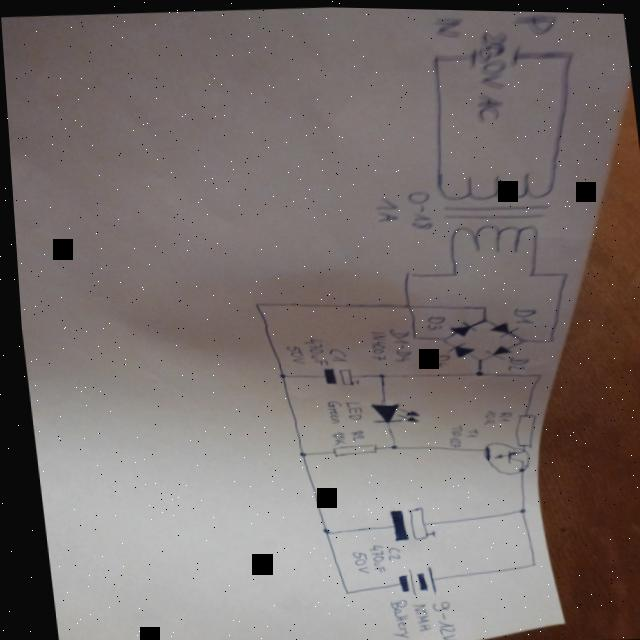capacitor: (379, 504, 429, 540), (315, 362, 357, 386)
crossover: (398, 298, 411, 309)
diode: (364, 396, 416, 422), (443, 315, 475, 337), (484, 317, 516, 336), (443, 338, 473, 355), (480, 341, 510, 356)
junction: (528, 367, 541, 378), (399, 266, 413, 275), (563, 47, 577, 56), (523, 266, 534, 275), (431, 51, 442, 60), (435, 332, 446, 341), (513, 333, 525, 341), (470, 353, 482, 361), (384, 439, 394, 448), (315, 524, 325, 532), (511, 503, 521, 511), (372, 368, 382, 376), (447, 267, 457, 274), (471, 366, 481, 373), (558, 267, 567, 274), (293, 448, 302, 454), (275, 370, 283, 376), (523, 558, 531, 564), (544, 334, 552, 340), (250, 299, 258, 305), (478, 315, 486, 321), (408, 331, 416, 337), (478, 301, 485, 307), (337, 587, 343, 593)
resistor: (507, 408, 537, 445), (324, 440, 374, 456)
source: (388, 560, 431, 593)
terminal: (509, 40, 527, 66), (466, 43, 481, 69)
text: (468, 26, 519, 122), (509, 9, 563, 38), (402, 185, 435, 229), (426, 599, 452, 640), (380, 595, 405, 636), (368, 189, 399, 222), (383, 325, 412, 359), (300, 334, 330, 363), (433, 12, 466, 38), (364, 326, 385, 357), (404, 598, 424, 629), (362, 541, 381, 572), (508, 302, 535, 322), (343, 546, 363, 572), (322, 396, 340, 424), (340, 397, 361, 418), (442, 421, 460, 445), (282, 341, 302, 362), (501, 352, 528, 367), (425, 348, 448, 365), (323, 344, 345, 361), (420, 312, 444, 327), (324, 426, 342, 443), (477, 404, 493, 423), (343, 426, 363, 440), (380, 543, 396, 559), (492, 406, 511, 419), (459, 423, 475, 436)
transformer: (432, 159, 565, 256)
transistor: (475, 436, 527, 474)
